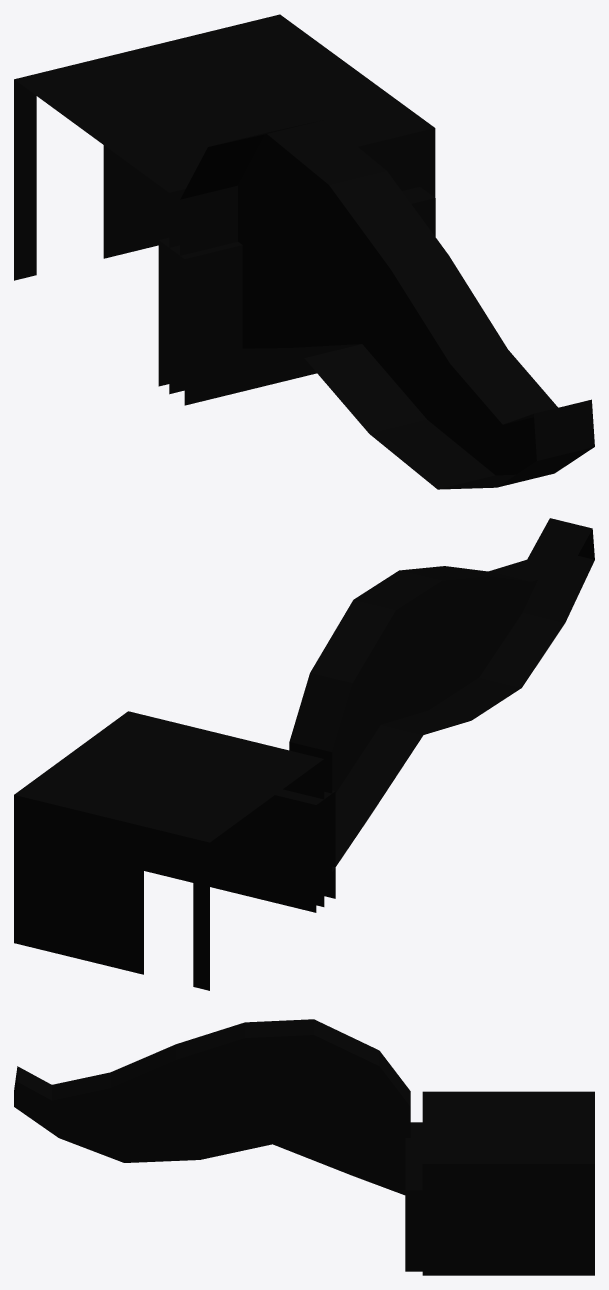
The model's file is section-0.obj.
The picture shows the model from 3 angles, top to bottom: view 1: azimuth 30°, elevation 25°; view 2: azimuth 150°, elevation 25°; view 3: azimuth 270°, elevation 25°; orthographic projection. The views are drawn at different scales.
Size of the model in its own units: 0.495 by 0.59 by 1.68.
